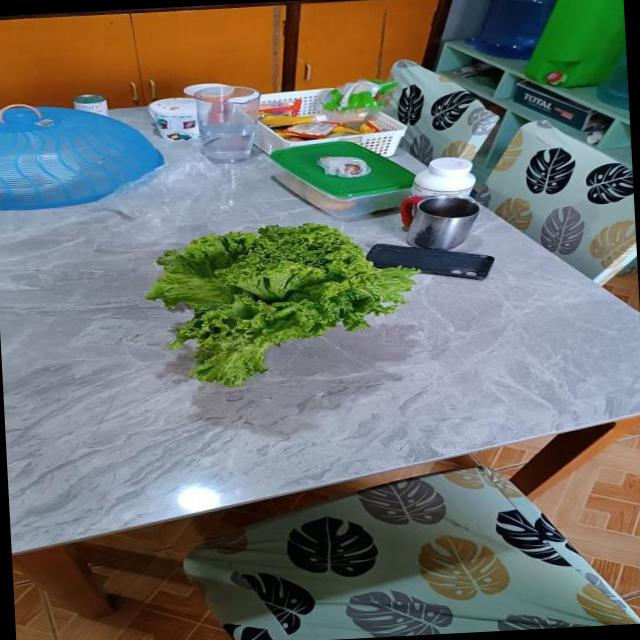Lettuce-Ready-to-Harvest: (156, 208, 408, 378)
